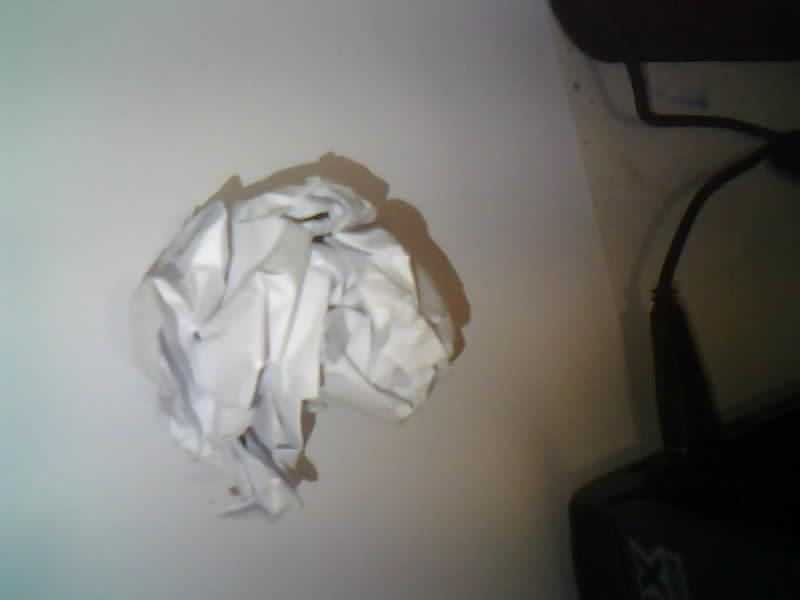biodegradable: (134, 177, 452, 513)
